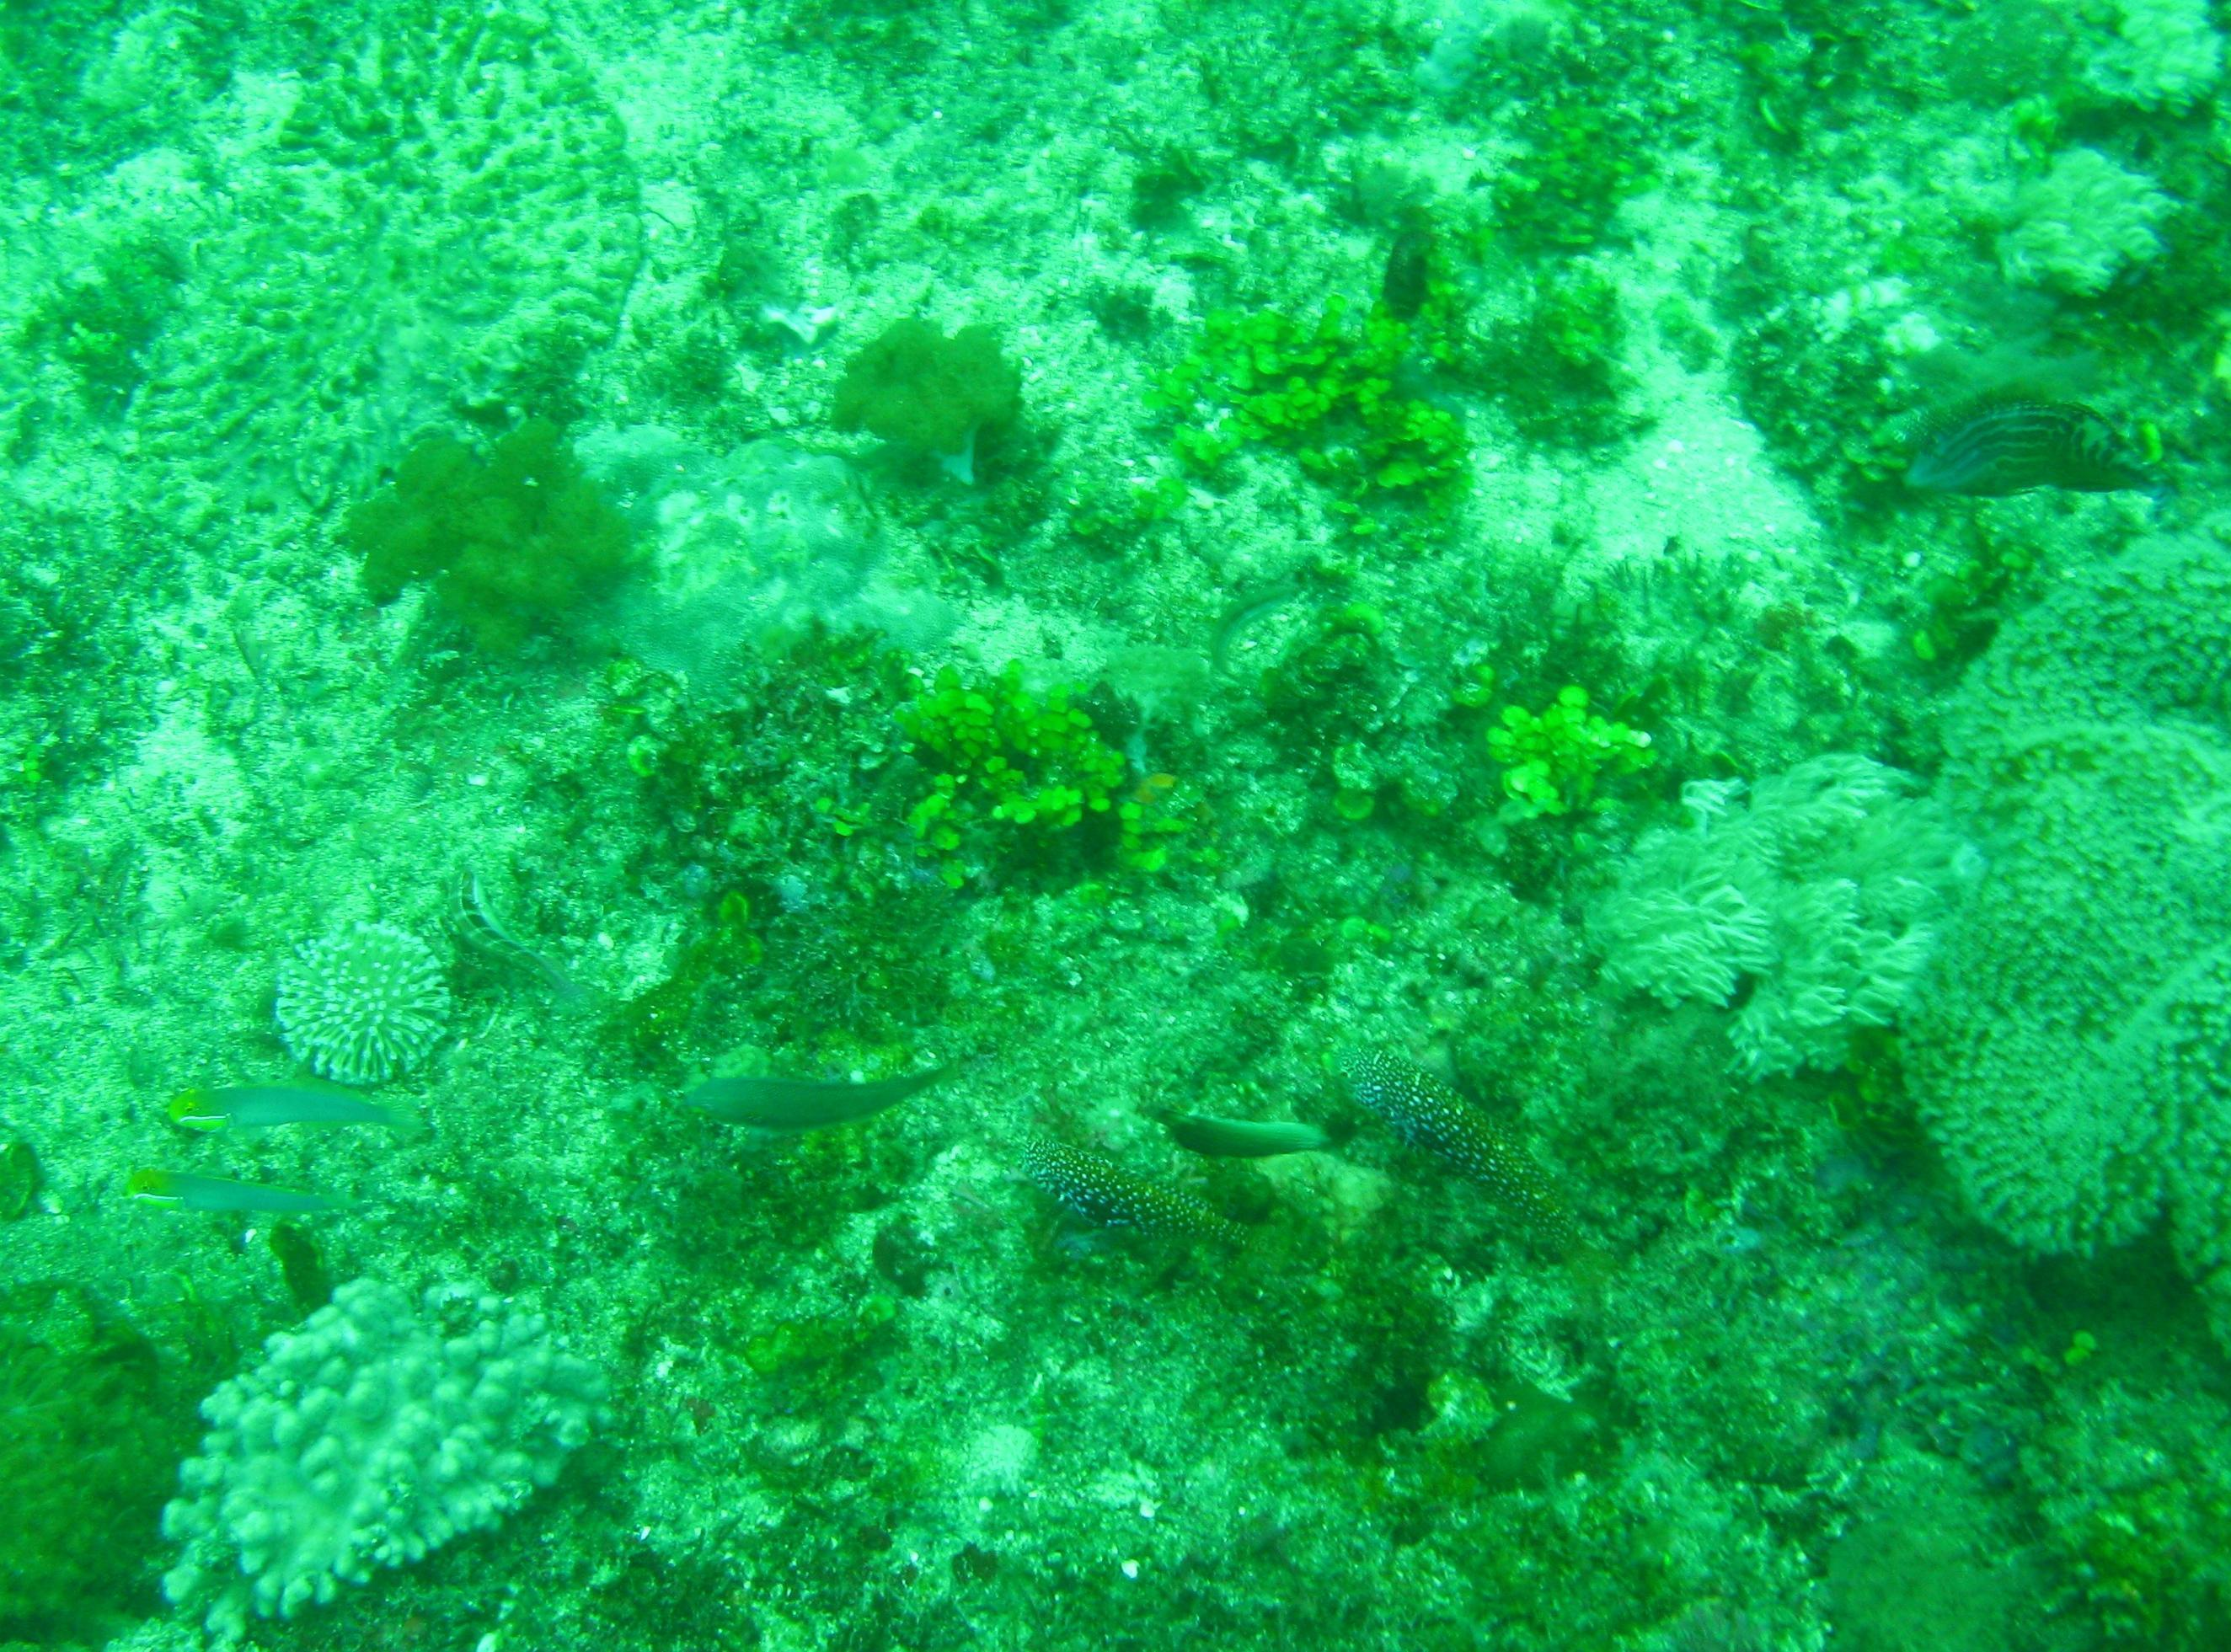Fish: (1315, 1008, 1601, 1284), (994, 1105, 1270, 1281)
